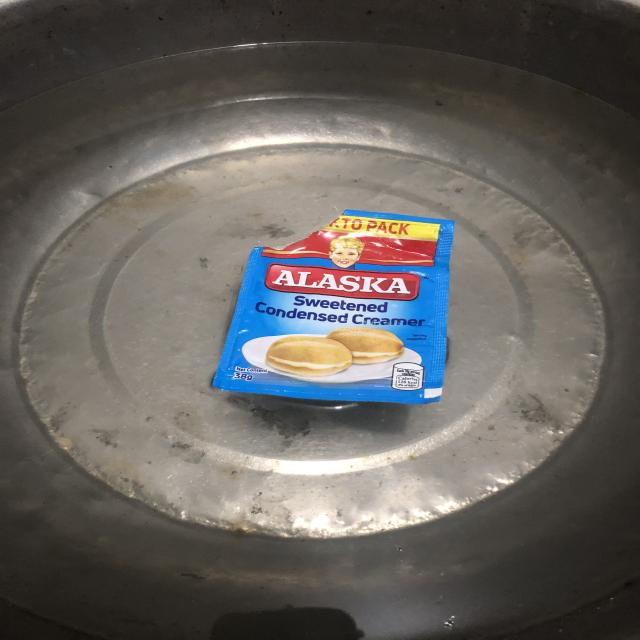Plastic Wrapper: (213, 210, 455, 404)
